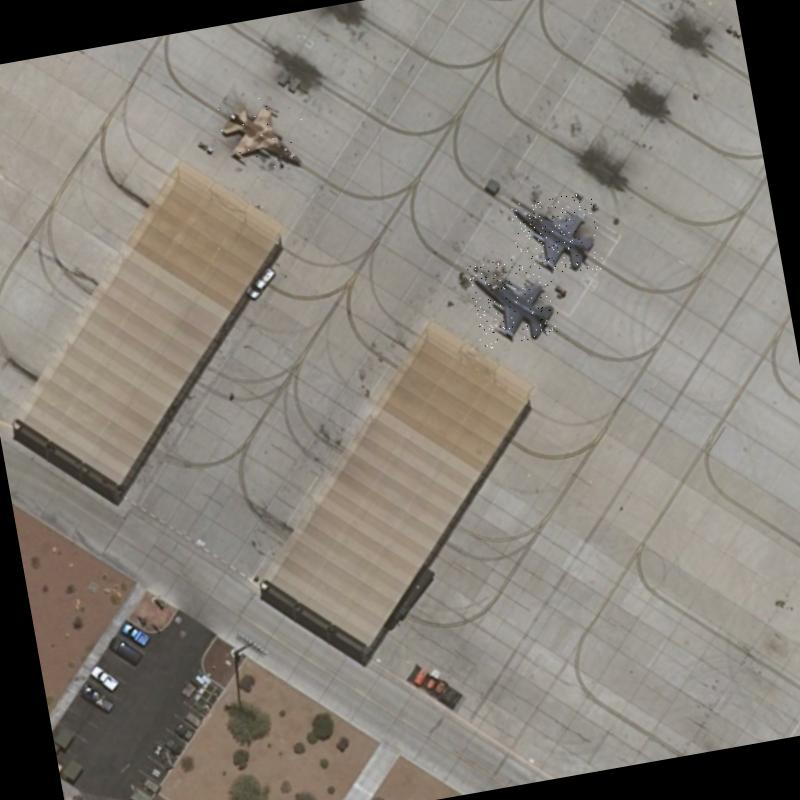A5: (466, 250, 566, 350), (213, 90, 312, 180), (509, 191, 605, 283)
